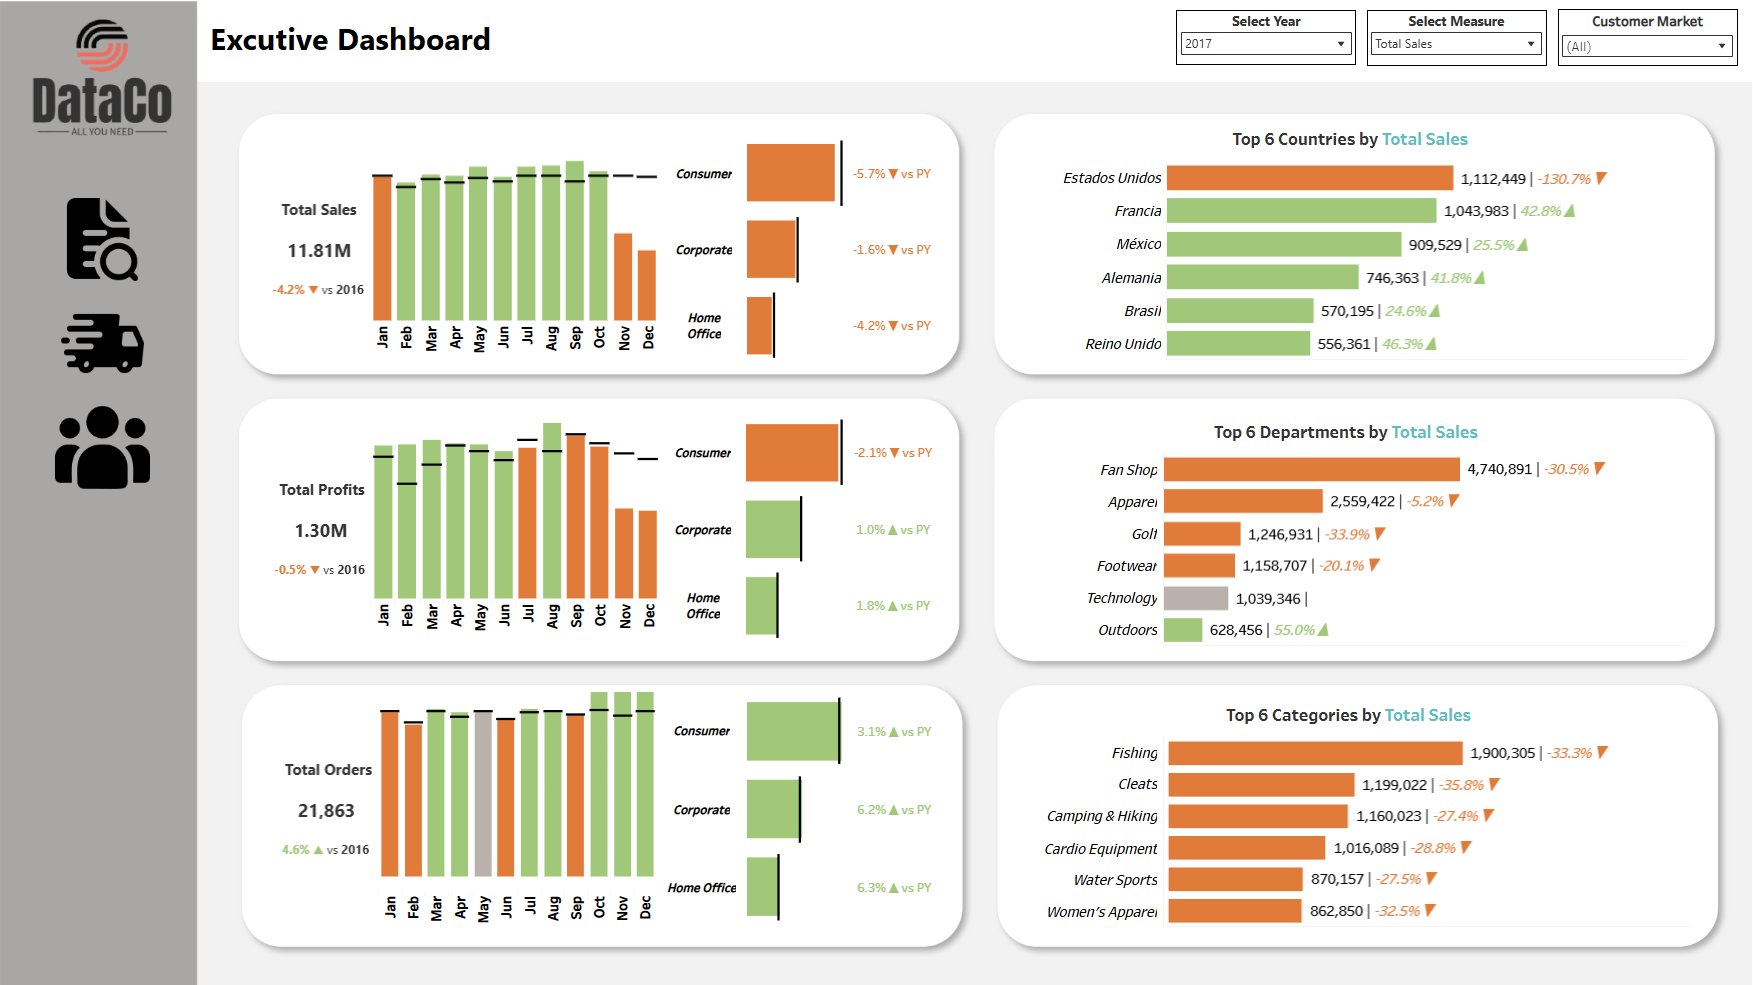

This screenshot's page, from the dashboard's own definition file:
{"tool":"tableau","page":{"name":"EXCUTIVE dashboard","canvas":[1600,900],"ordinal":2},"visuals":[{"type":"image","param":"D:/Năm 3/Kì 2/Trực quan hóa DL/BT Nhóm/Final/Template EXCUTIVE DASH.jpg","box":[8,8,1584,884]},{"type":"filter","title":"Top Country","param":"[federated.1q7cowo1s3advo10dbl711lnegs0].[none:Customer Market:nk]","box":[1406,19,160,51]},{"type":"parameter","param":"[Parameters].[Parameter 1]","box":[1067,20,160,49]},{"type":"parameter","param":"[Parameters].[Year PARAMETER (copy)_1693916422487871500]","box":[1236,20,160,50]},{"type":"text","box":[208,22,520,44]},{"type":"worksheet","title":"Top Country","mark":"Automatic","rows":["Customer Country"],"cols":["Measure PY SELECTOR (copy)_1693916422518186040"],"box":[922,118,599,213]},{"type":"worksheet","title":"Sales KPI","mark":"Automatic","box":[259,131,91,203]},{"type":"worksheet","title":"BAR: Sales over month","mark":"Automatic","rows":["Total Sales PY (copy)_1693916422497288220","Calculation_1693916422485458953"],"cols":["Calculation_1693916422500450339"],"box":[350,131,257,203]},{"type":"blank","box":[607,131,2,203]},{"type":"worksheet","title":"Table: Sales by SEGMENT","mark":"Automatic","rows":["Customer Segment"],"cols":["Total Sales PY (copy)_1693916422497288220","Calculation_1693916422485458953","Calculation_1693916422512300084"],"box":[609,131,249,203]},{"type":"dashboard-object","box":[57,178,111,92.3]},{"type":"dashboard-object","box":[57,270.3,111,92.3]},{"type":"dashboard-object","box":[57,362.7,111,92.3]},{"type":"worksheet","title":"Top Department","mark":"Automatic","rows":["Department Name"],"cols":["Measure PY SELECTOR (copy)_1693916422518186040"],"box":[915,378,605,207]},{"type":"worksheet","title":"Profits KPI","mark":"Automatic","box":[260,379,91,204]},{"type":"worksheet","title":"BAR: Profits over month","mark":"Automatic","rows":["Total Profits PY (copy)_1693916422497722397","Calculation_1693916422487408650"],"cols":["Calculation_1693916422500450339"],"box":[351,379,257,204]},{"type":"worksheet","title":"Table: Profits by SEGMENT","mark":"Automatic","rows":["Customer Segment"],"cols":["Total Profits PY (copy)_1693916422497722397","Calculation_1693916422487408650","Calculation_1693916422512300084"],"box":[608,379,252,204]},{"type":"worksheet","title":"Order KPI","mark":"Automatic","box":[265,626,92,208]},{"type":"worksheet","title":"BAR: Orders over month","mark":"Automatic","rows":["Total Orders PY (copy)_1693916422495088666","Calculation_1693916422488457230"],"cols":["Calculation_1693916422500450339"],"box":[357,626,248,208]},{"type":"worksheet","title":"Table: Ordes by SEGMENT","mark":"Automatic","rows":["Customer Segment"],"cols":["Total Orders PY (copy)_1693916422495088666","Calculation_1693916422488457230","Calculation_1693916422512300084"],"box":[605,626,256,208]},{"type":"worksheet","title":"Top Category","mark":"Automatic","rows":["Category Name"],"cols":["Measure PY SELECTOR (copy)_1693916422518186040"],"box":[915,630,610,205]}]}

Visuals, with their boxes in screenshot pixels (x1, y1, x2, y2), scaled from the page's 1600x900 canvas onto the 1753x985 screenshot:
image: 9,9,1744,976
"Top Country" filter: 1540,21,1716,77
parameter: 1169,22,1344,76
parameter: 1354,22,1529,77
text: 228,24,798,72
"Top Country" worksheet: 1010,129,1666,362
"Sales KPI" worksheet: 284,143,383,366
"BAR: Sales over month" worksheet: 383,143,665,366
blank: 665,143,667,366
"Table: Sales by SEGMENT" worksheet: 667,143,940,366
dashboard-object: 62,195,184,296
dashboard-object: 62,296,184,397
dashboard-object: 62,397,184,498
"Top Department" worksheet: 1002,414,1665,640
"Profits KPI" worksheet: 285,415,385,638
"BAR: Profits over month" worksheet: 385,415,666,638
"Table: Profits by SEGMENT" worksheet: 666,415,942,638
"Order KPI" worksheet: 290,685,391,913
"BAR: Orders over month" worksheet: 391,685,663,913
"Table: Ordes by SEGMENT" worksheet: 663,685,943,913
"Top Category" worksheet: 1002,690,1671,914
